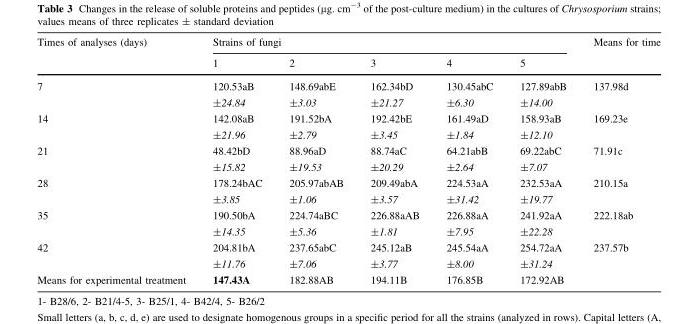table: (36, 36, 660, 285)
table column: (36, 36, 198, 285), (275, 36, 356, 285), (579, 36, 660, 285), (198, 36, 275, 285), (356, 36, 432, 285), (505, 36, 579, 285), (432, 36, 505, 285)
table column header: (36, 36, 660, 74)
table row: (36, 52, 660, 74), (36, 74, 660, 94), (36, 142, 660, 159), (36, 36, 660, 52), (36, 94, 660, 110), (36, 110, 660, 126), (36, 126, 660, 142), (36, 159, 660, 175), (36, 175, 660, 191), (36, 191, 660, 207), (36, 207, 660, 223), (36, 223, 660, 239), (36, 239, 660, 255), (36, 255, 660, 271), (36, 271, 660, 285)
table spanning cell: (36, 36, 198, 74), (198, 36, 579, 52), (36, 74, 198, 110), (36, 142, 198, 175), (36, 110, 198, 142), (36, 175, 198, 207), (36, 207, 198, 239), (36, 239, 198, 271), (579, 36, 660, 74)
